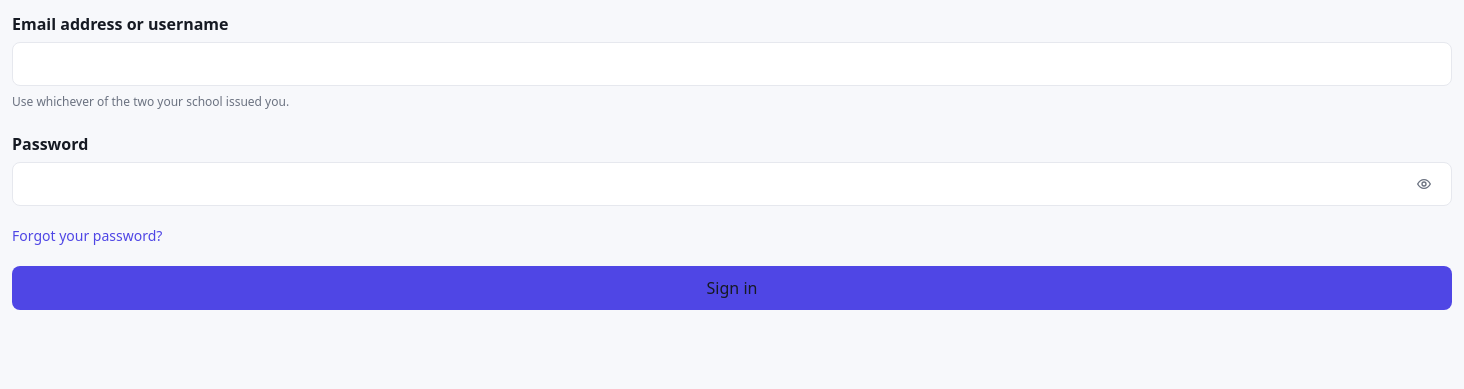
refusals › explains a 403 as a refused request rather than a bad credential
Type "amara@school.lk" into the field with test id "sign-in-identifier" at (732, 64), box [12,42,1452,86]
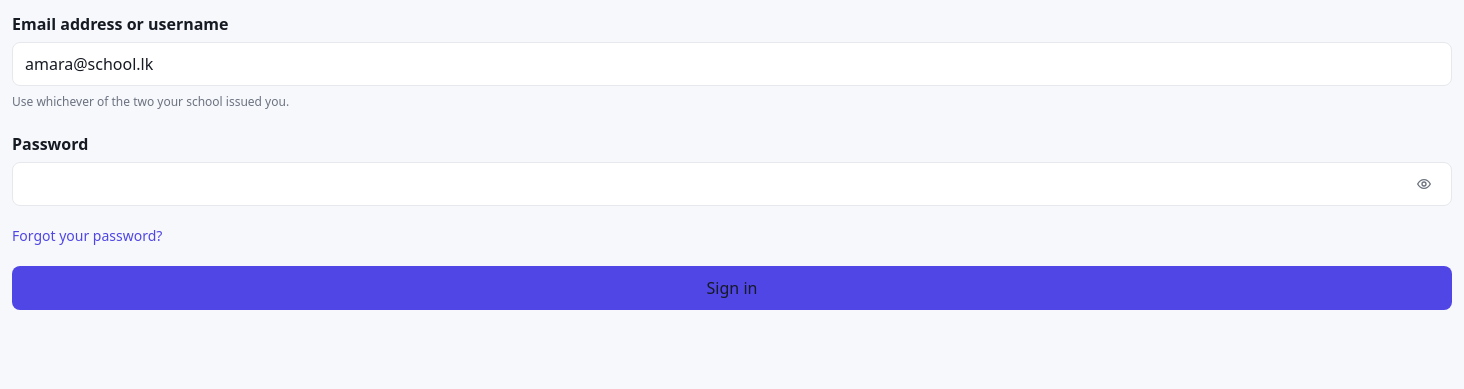
Type "not-a-real-password" into the password field with test id "sign-in-password" at (732, 184), box [12,162,1452,206]
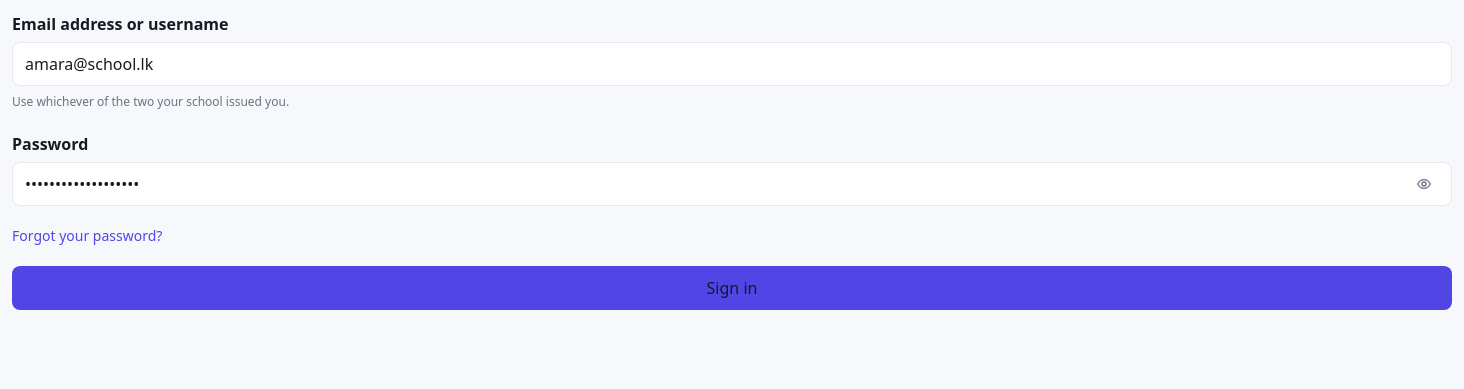
Click the button with test id "sign-in-submit" at (732, 288), box [12,266,1452,310]
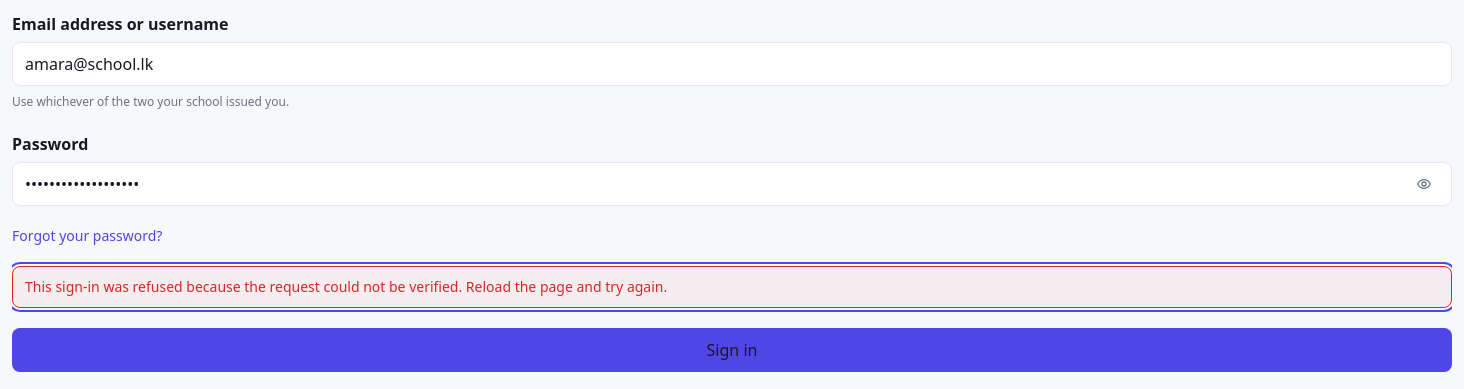
expect the message with test id "sign-in-form-message" shows "could not be verified": met, box [25,276,667,296]
